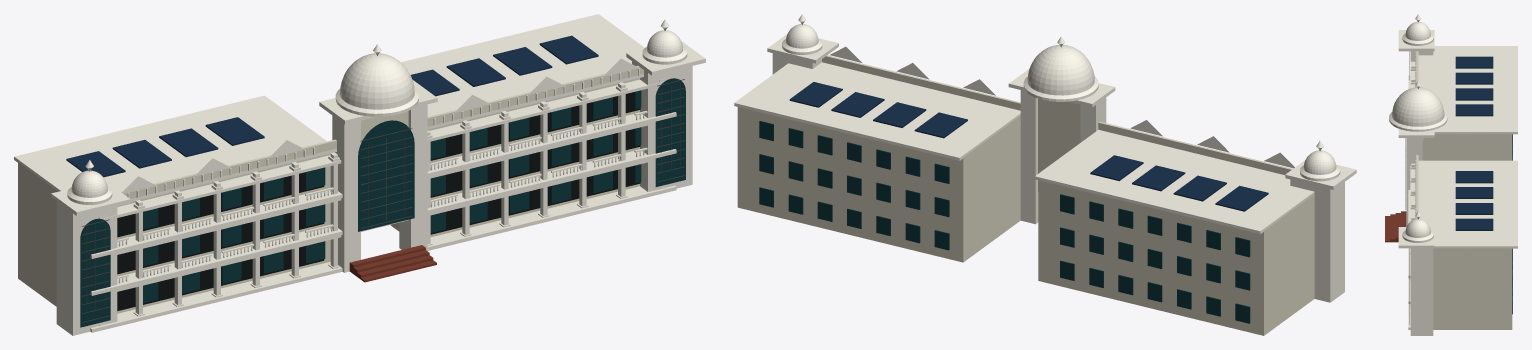
File: College_Model.obj
The picture shows the model from 3 angles, left to right: view 1: azimuth 30°, elevation 25°; view 2: azimuth 150°, elevation 25°; view 3: azimuth 270°, elevation 25°; orthographic projection. The views are drawn at different scales.
Visible parts, largest first — view 1: White, Glass, Ivory, Recess, Solar, Stone, Terracotta; view 2: Ivory, White, Glass, Solar; view 3: White, Ivory, Solar, Terracotta, Stone.
Boxes of the visible parts, box(x1,y1,x2,y2) form: White: box(14, 14, 705, 335); Glass: box(80, 78, 685, 327); Ivory: box(18, 65, 643, 313); Recess: box(117, 92, 640, 310); Solar: box(66, 35, 598, 177); Stone: box(81, 79, 684, 322); Terracotta: box(349, 245, 436, 282); Ivory: box(737, 55, 1314, 335); White: box(734, 14, 1356, 302); Glass: box(759, 121, 1250, 323); Solar: box(789, 82, 1268, 211); White: box(1389, 14, 1517, 335); Ivory: box(1416, 51, 1512, 329); Solar: box(1455, 56, 1493, 230); Terracotta: box(1385, 211, 1406, 242); Stone: box(1405, 51, 1409, 324).
Size of the model in its own units: 67.8 by 21.9 by 17.65.
